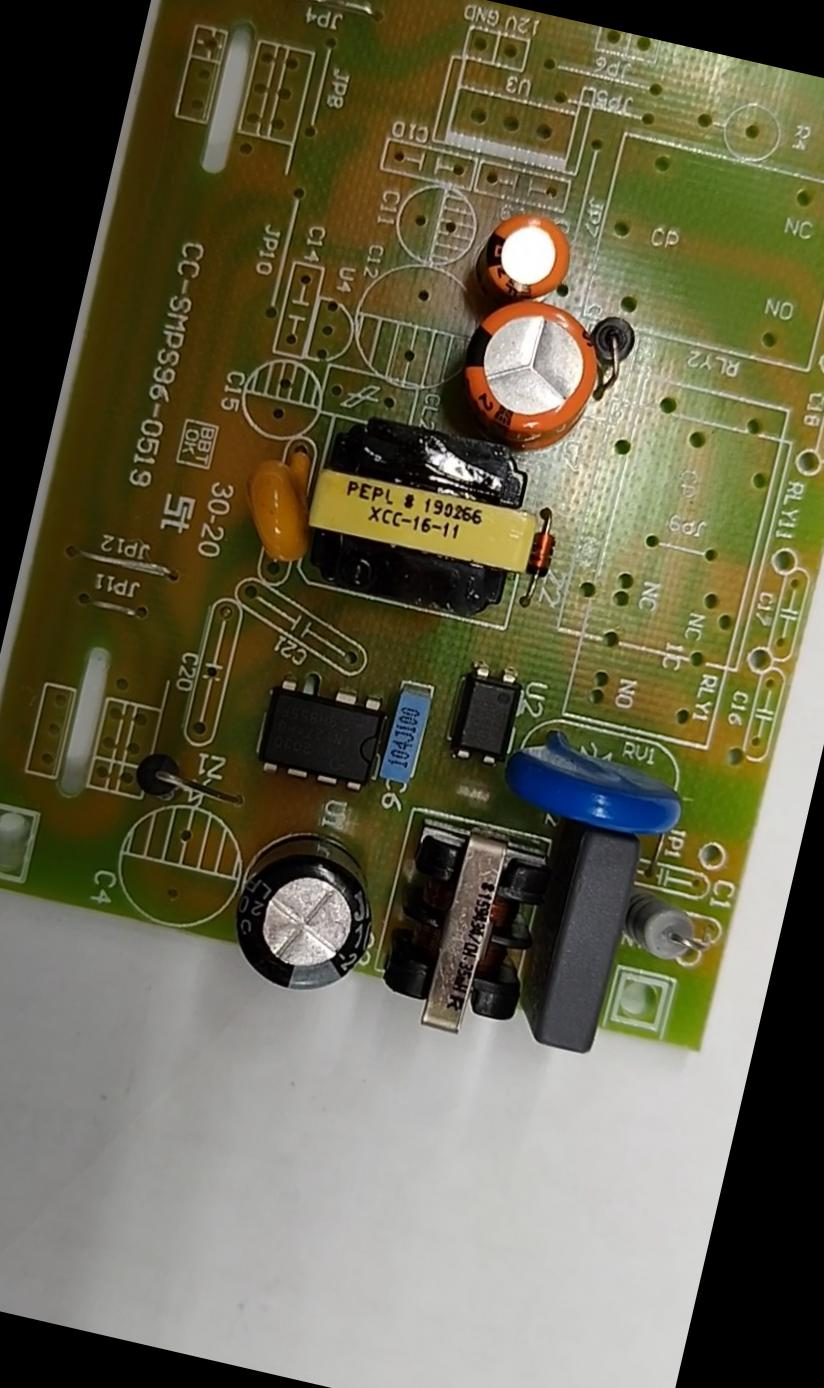Cap1: (447, 288, 606, 454)
Cap2: (479, 205, 578, 309)
Cap3: (220, 820, 388, 1004)
MOSFET: (254, 675, 388, 794)
Mov: (497, 726, 692, 845)
Resistor: (616, 883, 711, 966)
Transformer: (292, 401, 550, 628), (379, 824, 548, 1040)
